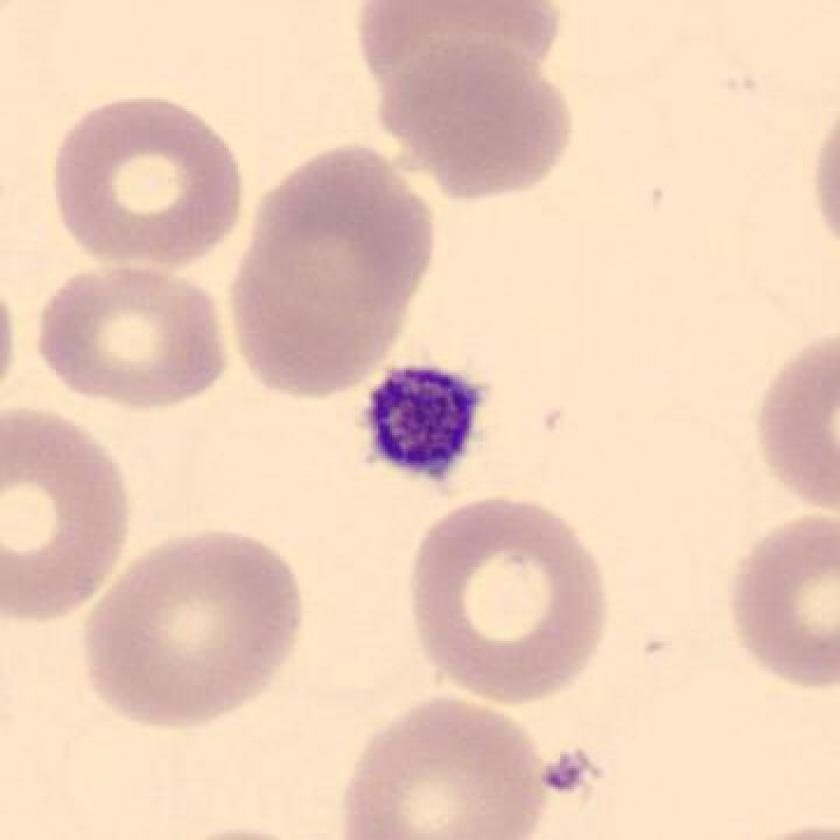platelets: (356, 351, 496, 492)
